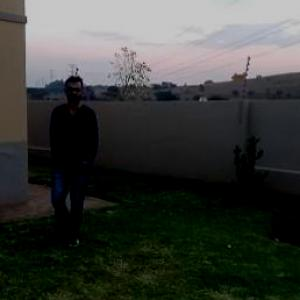follow: (44, 73, 100, 237)
